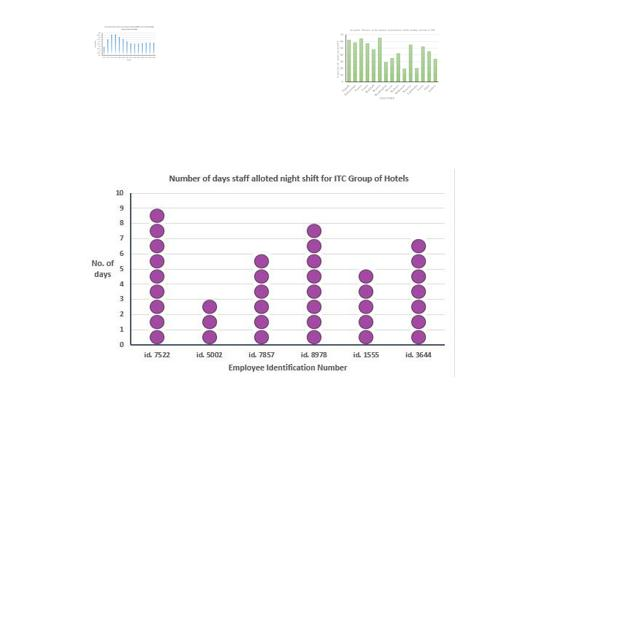Graph: (81, 169, 455, 377), (334, 28, 441, 101), (93, 25, 157, 61)
